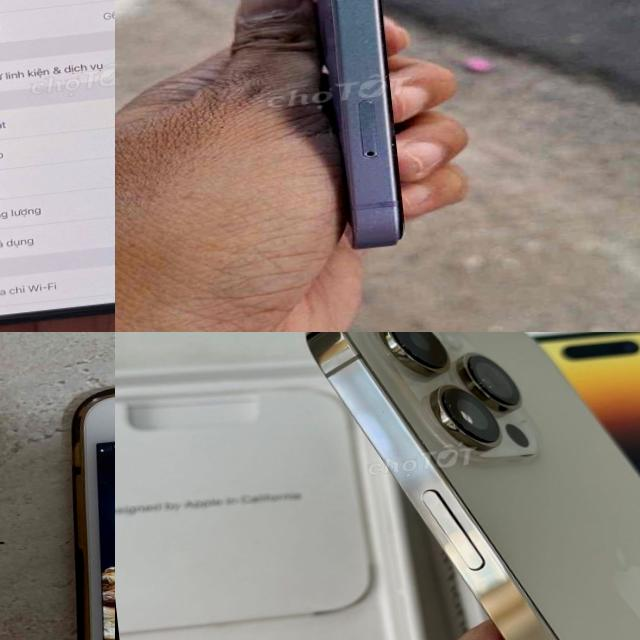gen_11: (0, 0, 115, 324)
gen_12_13: (263, 0, 464, 279)
gen_14: (304, 332, 640, 640)
gen_6: (71, 388, 115, 640)
